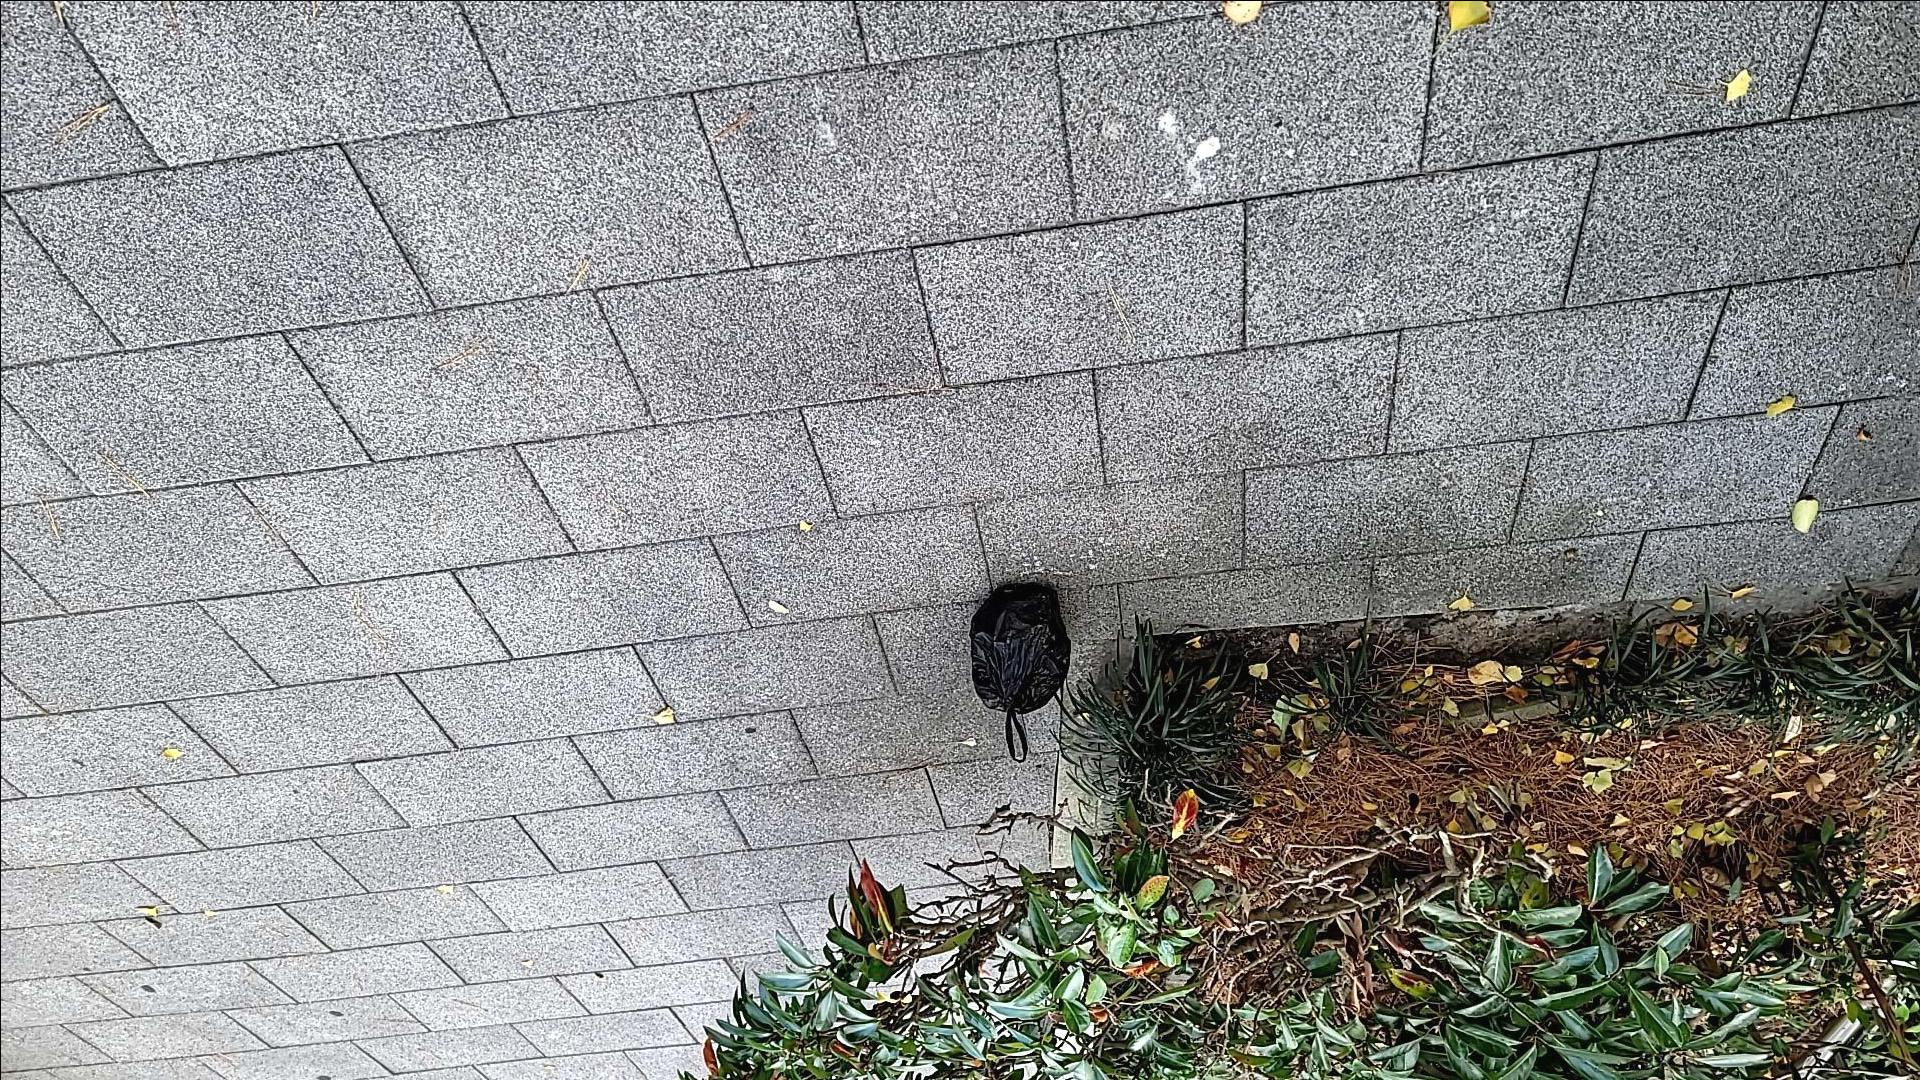black_bag: (957, 578, 1080, 769)
